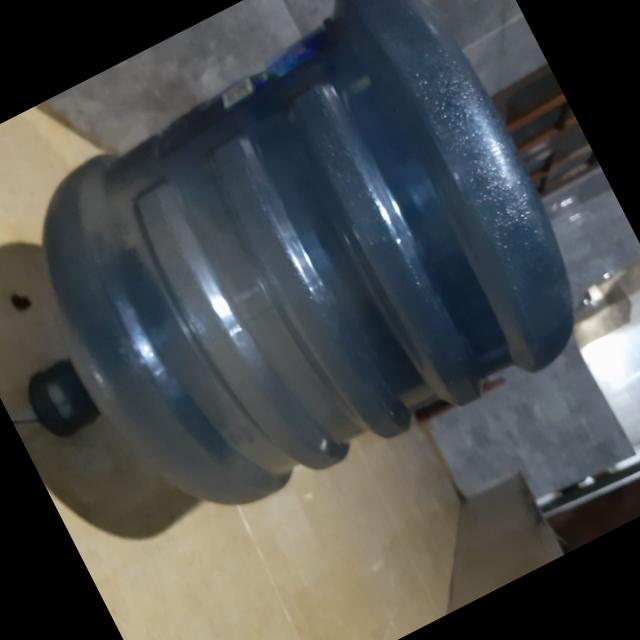Galon: (0, 0, 615, 588)
